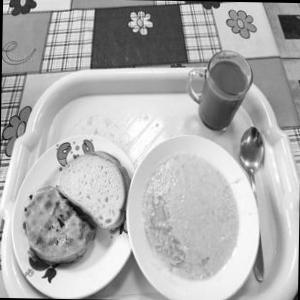bread: (42, 144, 138, 227)
cheese_sandwich: (9, 184, 99, 266)
coffee: (187, 28, 254, 154)
porridge: (130, 136, 250, 292)
